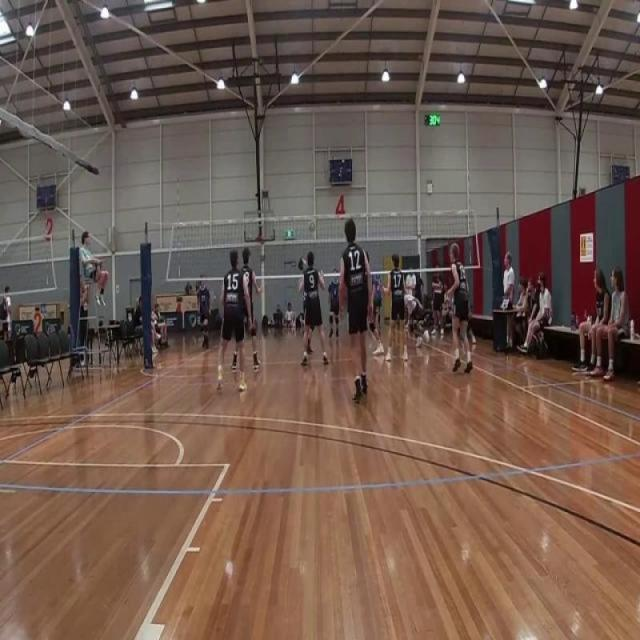volleyball: (308, 220, 316, 234)
